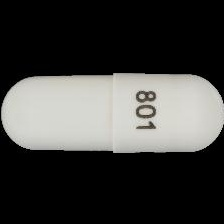10544-868: (0, 0, 224, 224)
